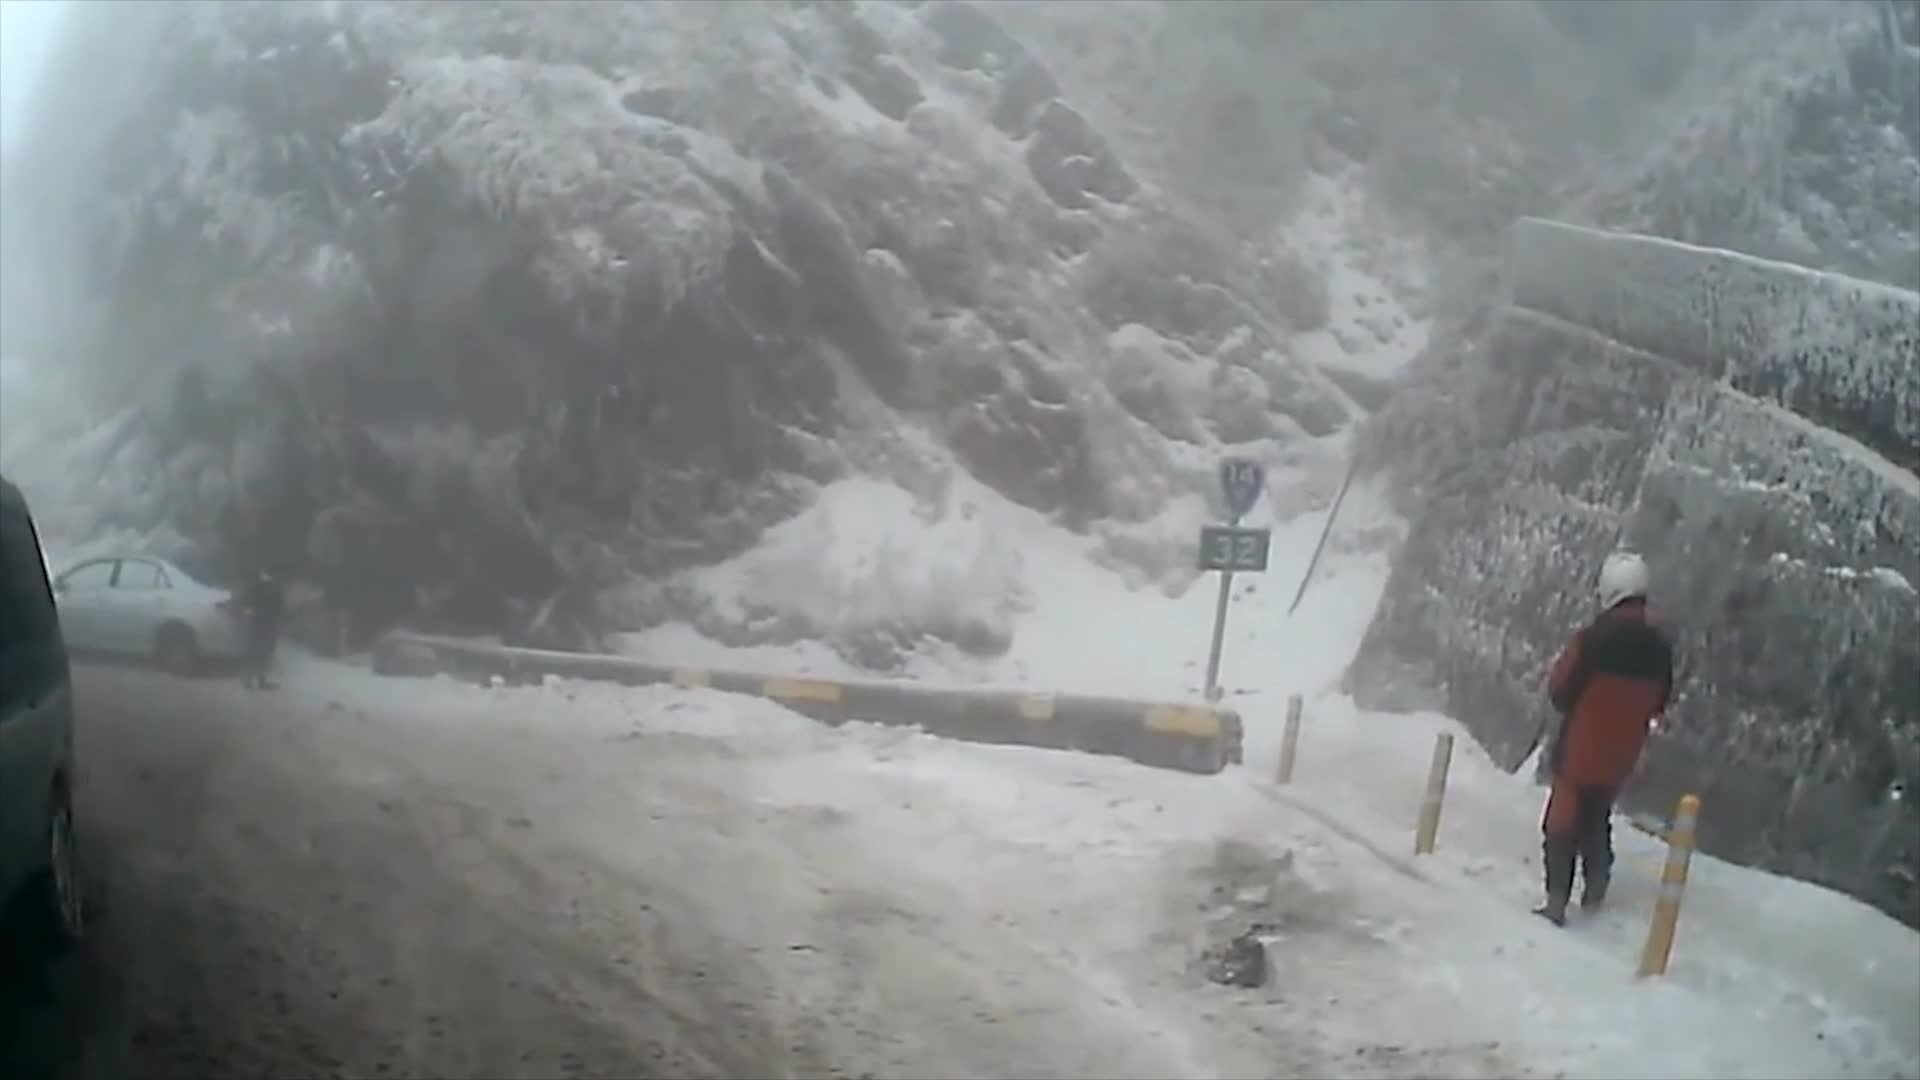pedestrian: (1538, 546, 1677, 929), (230, 565, 286, 695)
vehicle: (0, 479, 83, 1045), (0, 553, 260, 677)
